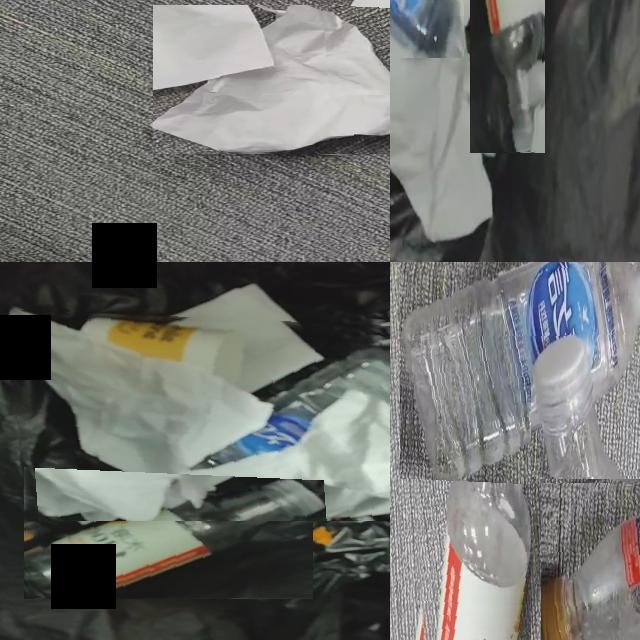bottle: (400, 262, 640, 478), (27, 475, 313, 598), (433, 340, 531, 640), (200, 333, 390, 456), (545, 516, 640, 640), (487, 0, 543, 152), (390, 0, 464, 58)
dixie_cup: (81, 314, 243, 374)
paper: (10, 309, 390, 521), (153, 5, 390, 154), (390, 45, 492, 240), (174, 284, 321, 382)
